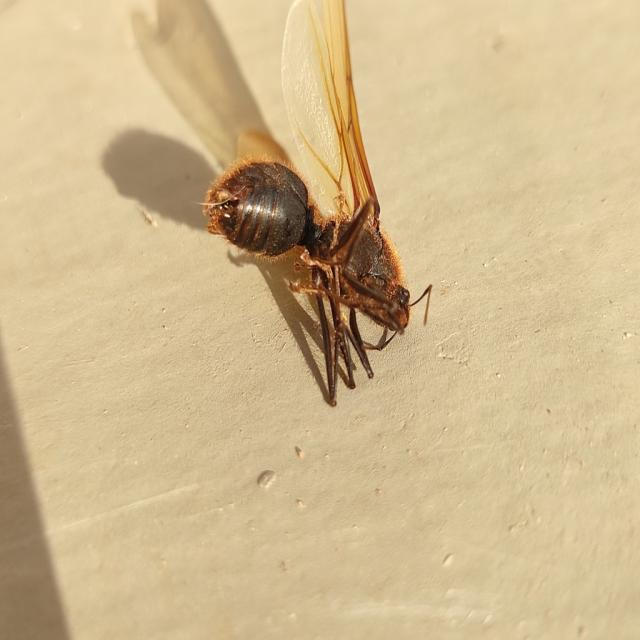Dead-Male-Alate: (196, 0, 433, 409)
